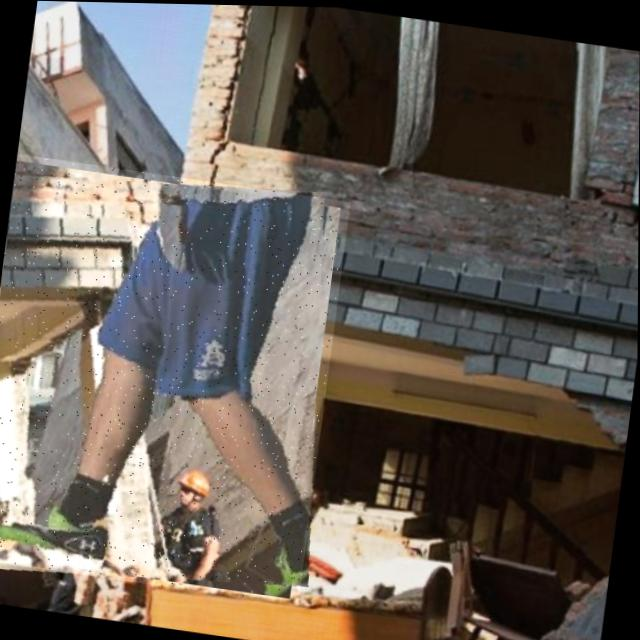Person in Rubble: (0, 153, 350, 605)
